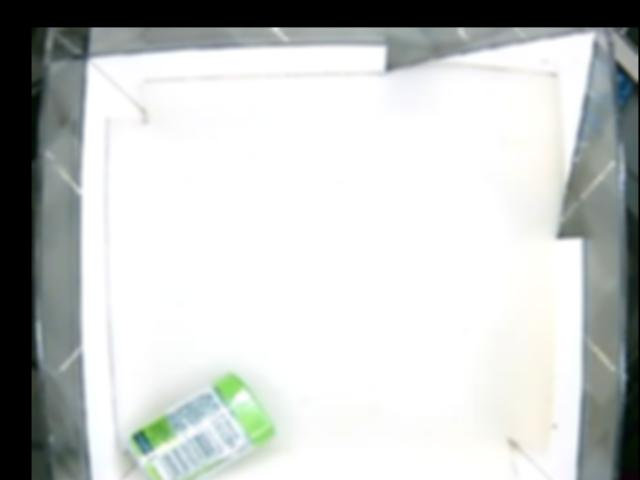Bottle: (126, 371, 275, 480)
